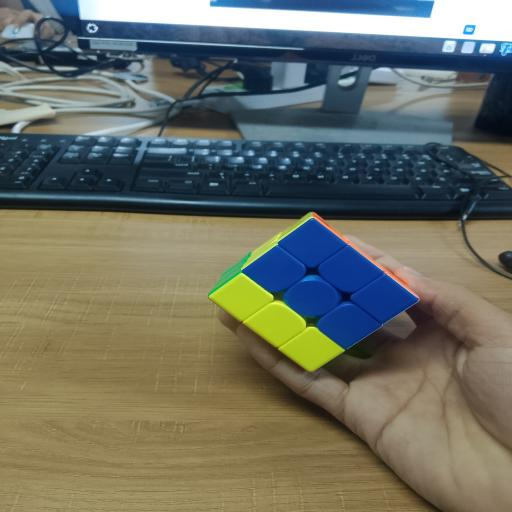cubic: (208, 209, 424, 387)
